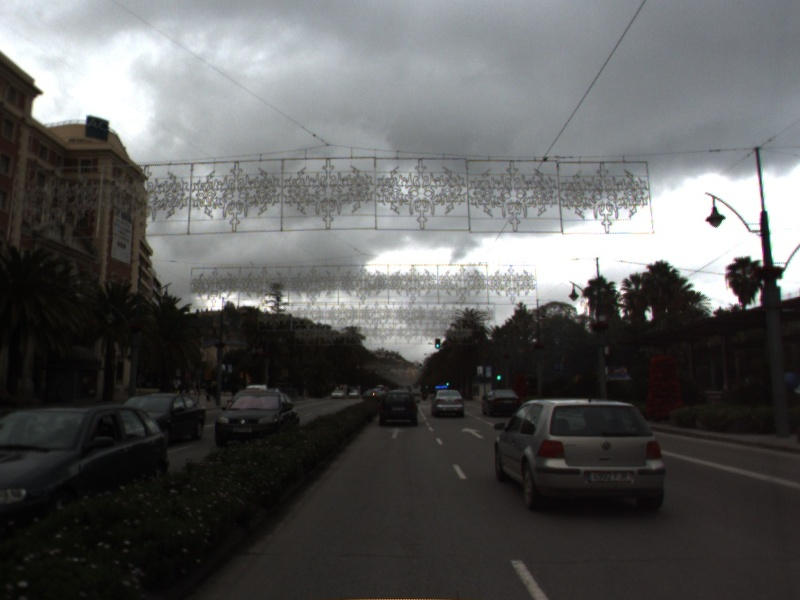STRAIGHT: (459, 425, 486, 440), (385, 426, 408, 440)
